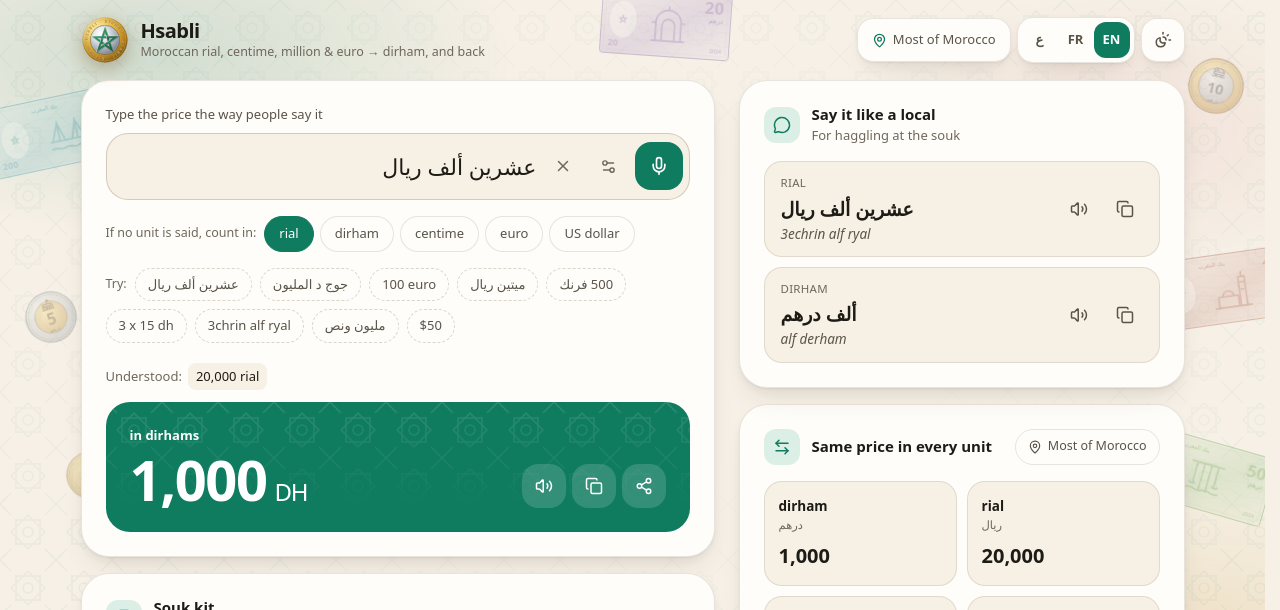
Scenario: App › flags doro outside regions that define it
This screenshot has width=1280, height=610.
Clear the field at (330,166), box [122,140,536,192]
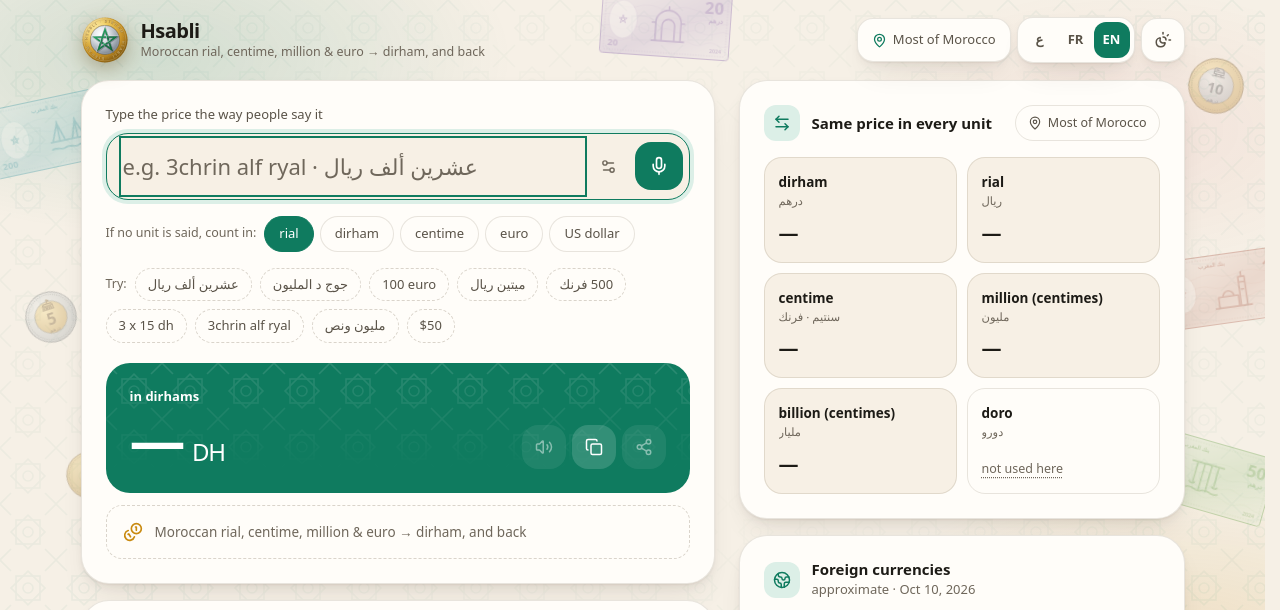
Type "100 doro" into the field at (352,166), box [122,140,582,192]
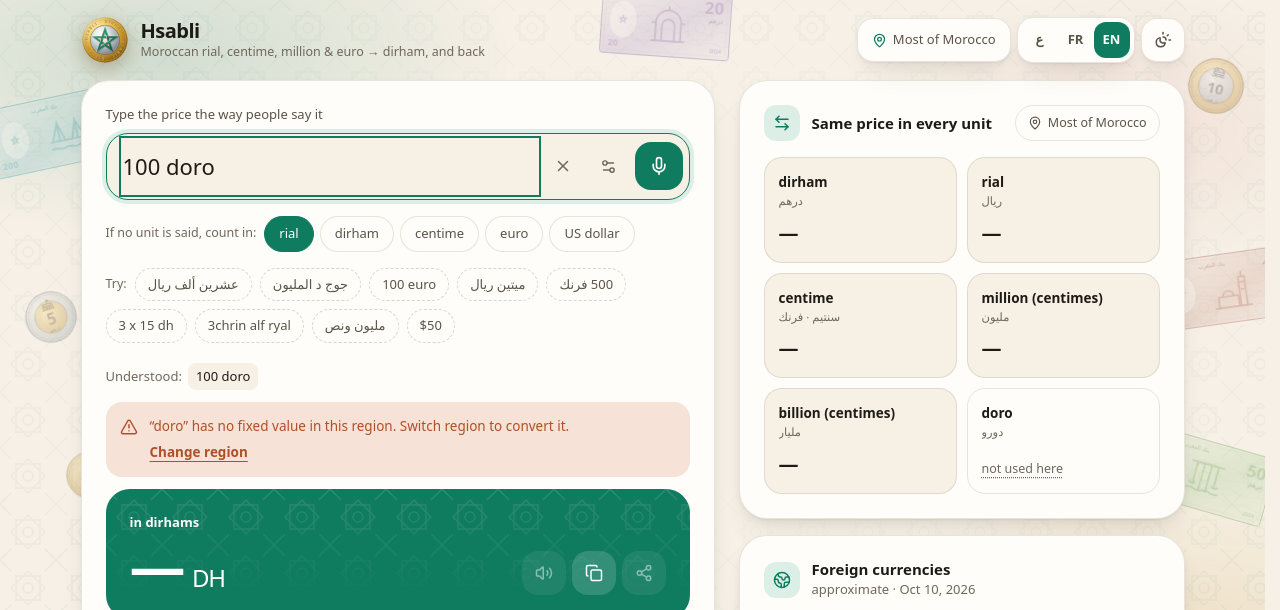
Check: the message shows "no fixed value in this region", box [150,417,569,435]
